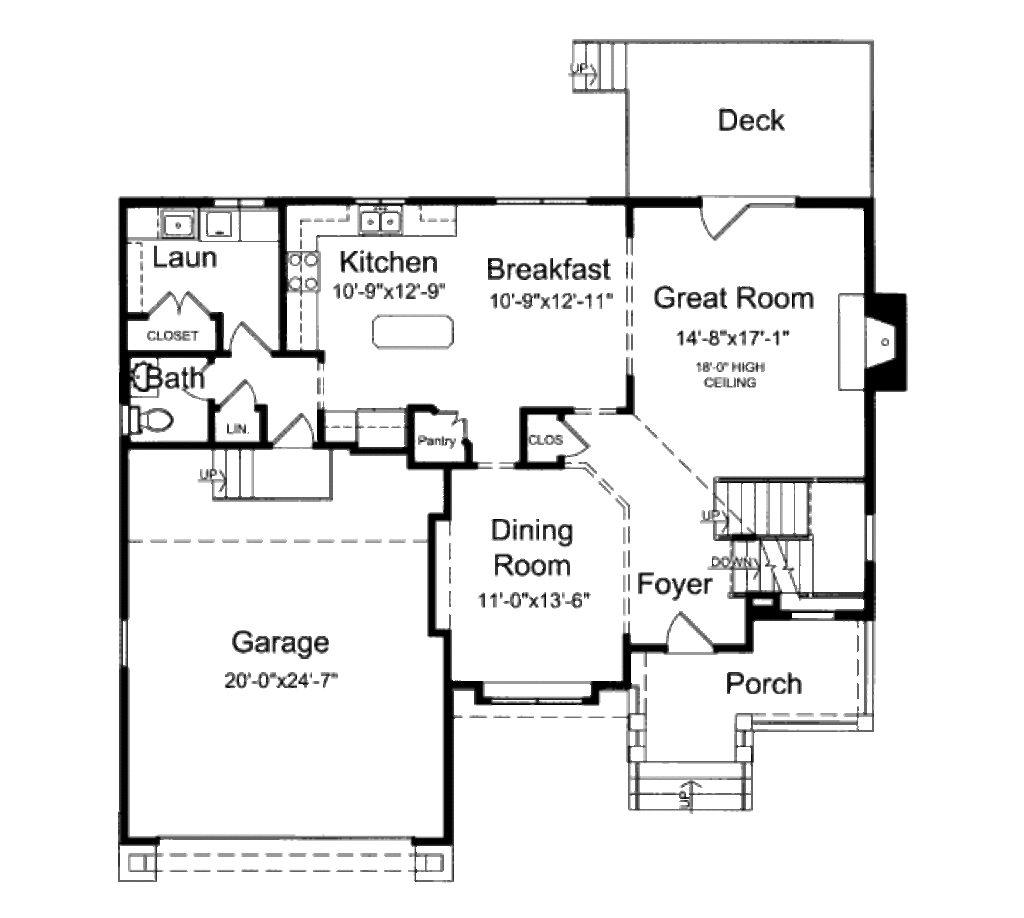door: (692, 186, 755, 247), (658, 611, 714, 654), (146, 290, 208, 321), (550, 415, 595, 457), (228, 319, 275, 359), (269, 415, 316, 448)
large_sink: (125, 397, 177, 440)
stairs: (699, 480, 870, 614), (195, 446, 346, 507), (628, 748, 757, 817), (566, 35, 634, 91)
twin_sink: (359, 204, 411, 240)
windows: (485, 691, 590, 713), (485, 189, 591, 210)
